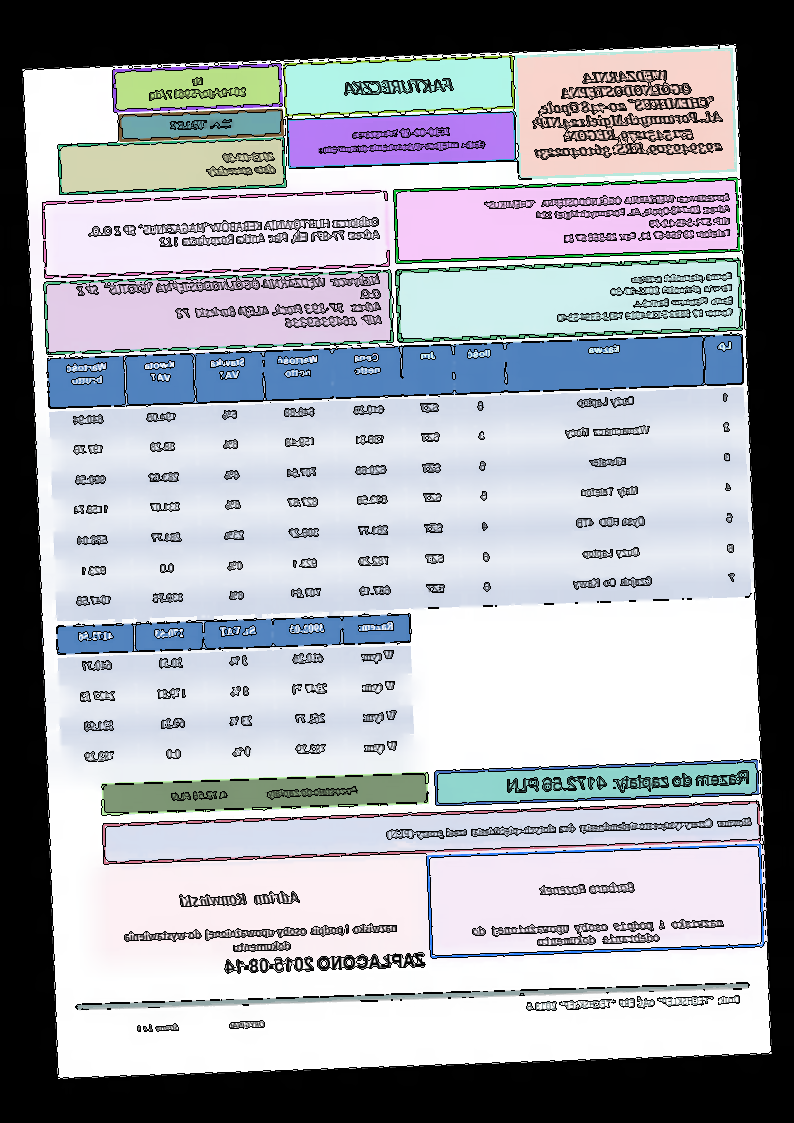Table: (45, 333, 754, 624), (54, 612, 418, 779)
TextBox: (74, 271, 385, 338), (527, 66, 727, 163), (482, 189, 734, 250), (86, 212, 382, 254), (385, 813, 754, 843), (119, 918, 401, 957), (556, 268, 735, 324), (469, 913, 725, 951), (504, 766, 751, 798), (315, 121, 489, 158), (224, 948, 428, 977), (522, 989, 744, 1014), (170, 782, 362, 806), (146, 73, 248, 103), (203, 146, 278, 181), (178, 889, 303, 910), (342, 74, 456, 97), (134, 1016, 267, 1035), (535, 879, 638, 898), (166, 115, 238, 132)
